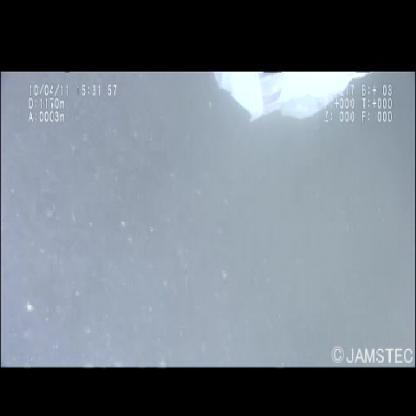Rác: (216, 72, 368, 123)
